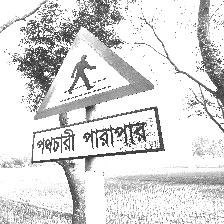Pedestrian-crossing: (31, 27, 163, 164)
